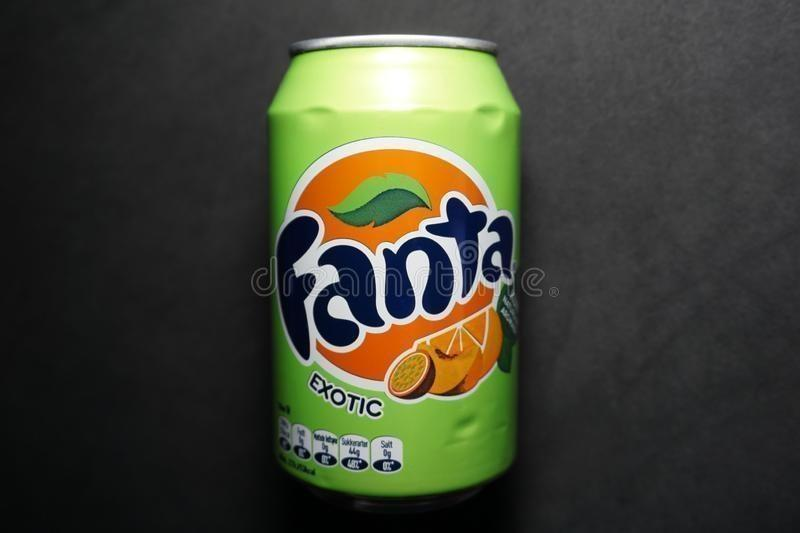tin can: (258, 23, 525, 510)
